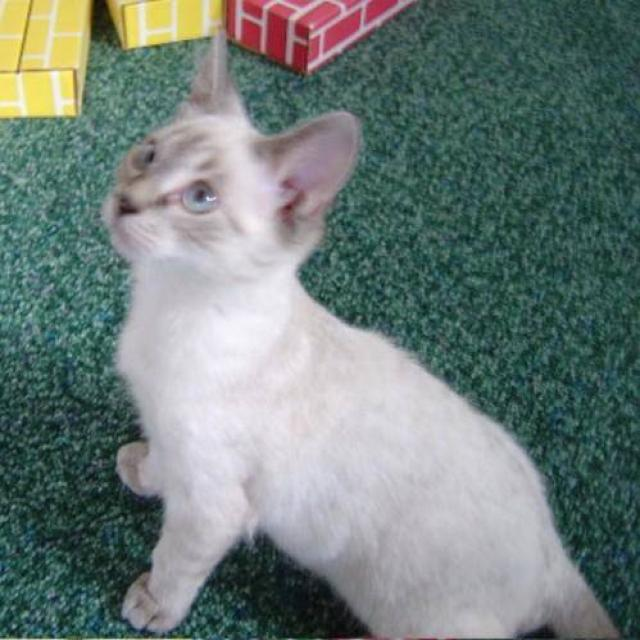cat: (100, 26, 623, 638)
